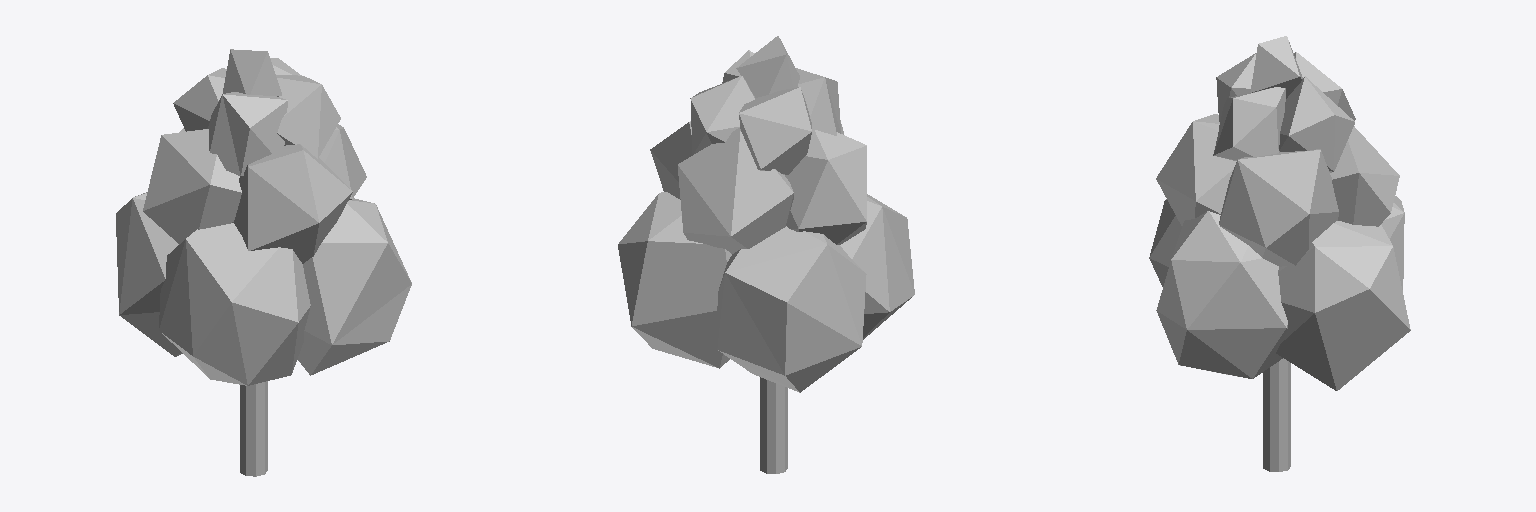
The model's file is Simple_Tree_8.obj.
The picture shows the model from 3 angles: view 1: azimuth 30°, elevation 25°; view 2: azimuth 150°, elevation 25°; view 3: azimuth 270°, elevation 25°; orthographic projection.
Parts seen in each view (by area): view 1: Simple_Tree_8_Cylinder.008; view 2: Simple_Tree_8_Cylinder.008; view 3: Simple_Tree_8_Cylinder.008.
Boxes of the visible parts, box(x1,y1,x2,y2) form: Simple_Tree_8_Cylinder.008: box(116, 49, 411, 476); Simple_Tree_8_Cylinder.008: box(618, 36, 914, 473); Simple_Tree_8_Cylinder.008: box(1149, 36, 1410, 471).
Bounding box in the file's own units: 4.52 × 7.93 × 4.43.